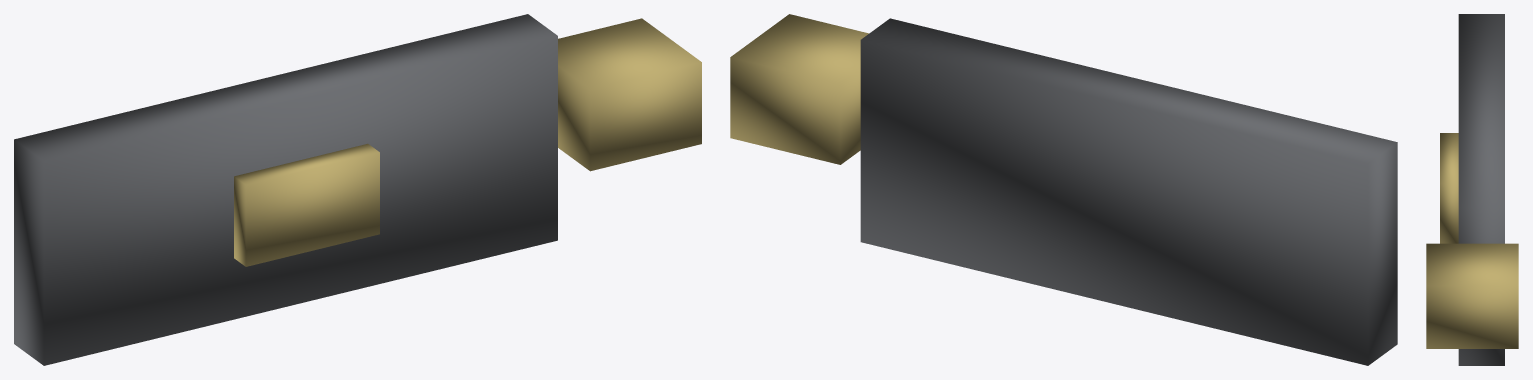
Rendered from floor_indicator_08.glb.
3 views of the same model, side by side, from view 1: azimuth 30°, elevation 25°; view 2: azimuth 150°, elevation 25°; view 3: azimuth 270°, elevation 25° (orthographic). The views are drawn at different scales.
Parts seen in each view (by area): view 1: world; view 2: world; view 3: world.
Boxes of the visible parts, x1,y1,x2,y2 form: world: (14, 14, 701, 365); world: (730, 14, 1397, 365); world: (1426, 14, 1518, 365).
Bounding box in the file's own units: 0.6384 × 0.196 × 0.104.
